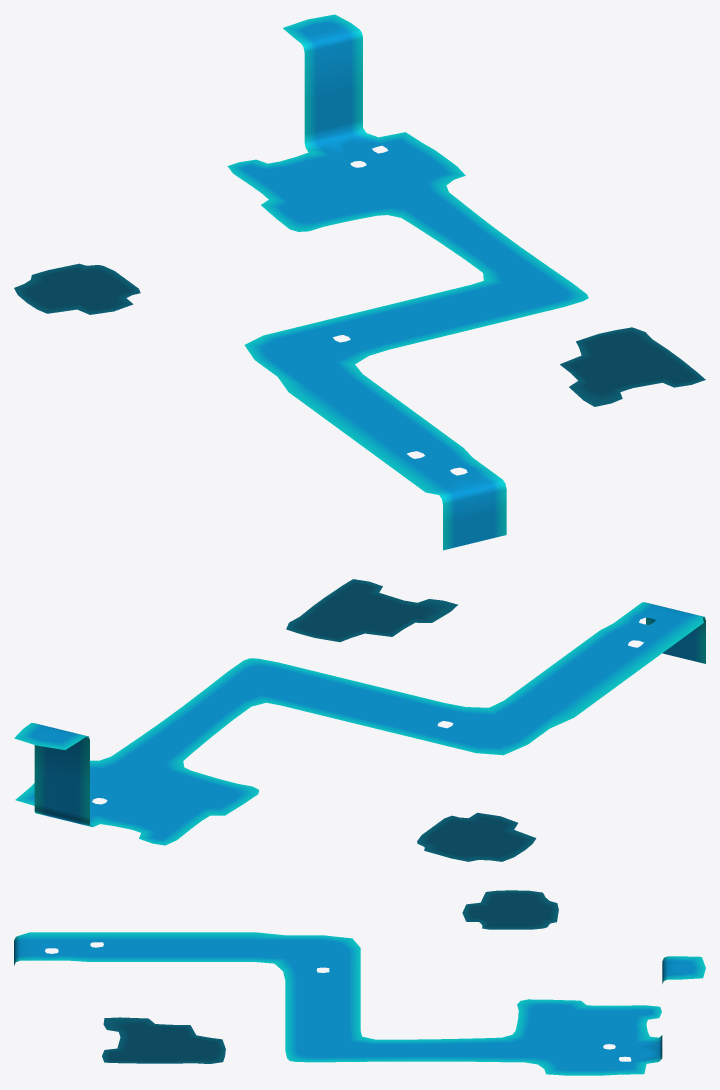
File: WaterMesh.fbx
3 views of the same model, one above another, from view 1: azimuth 30°, elevation 25°; view 2: azimuth 150°, elevation 25°; view 3: azimuth 270°, elevation 25° (orthographic). The views are drawn at different scales.
Parts seen in each view (by area): view 1: Plane.943, Plane.003, Plane.002, Plane.001; view 2: Plane.943, Plane.003, Plane.002, Plane.001; view 3: Plane.943, Plane.003, Plane.002, Plane.001.
Boxes of the visible parts, <box> form: Plane.943: <box>244,212,588,550</box>; Plane.003: <box>227,14,473,231</box>; Plane.002: <box>560,327,705,406</box>; Plane.001: <box>14,263,140,314</box>; Plane.943: <box>138,602,705,755</box>; Plane.003: <box>14,723,258,845</box>; Plane.002: <box>286,579,457,642</box>; Plane.001: <box>417,812,536,861</box>; Plane.943: <box>14,932,481,1062</box>; Plane.003: <box>481,956,705,1075</box>; Plane.002: <box>102,1017,225,1063</box>; Plane.001: <box>462,890,558,929</box>.
Bounding box in the file's own units: 2909 × 916 × 4590.
